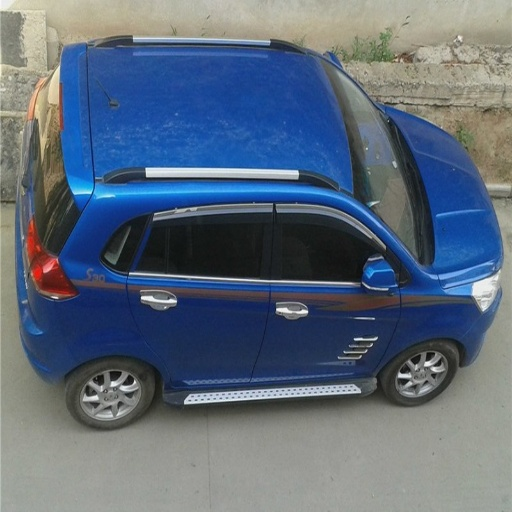back_bumper: (21, 317, 71, 393)
back_right_door: (128, 190, 273, 398)
front_right_door: (254, 198, 398, 383)
trunk: (92, 94, 136, 183)
